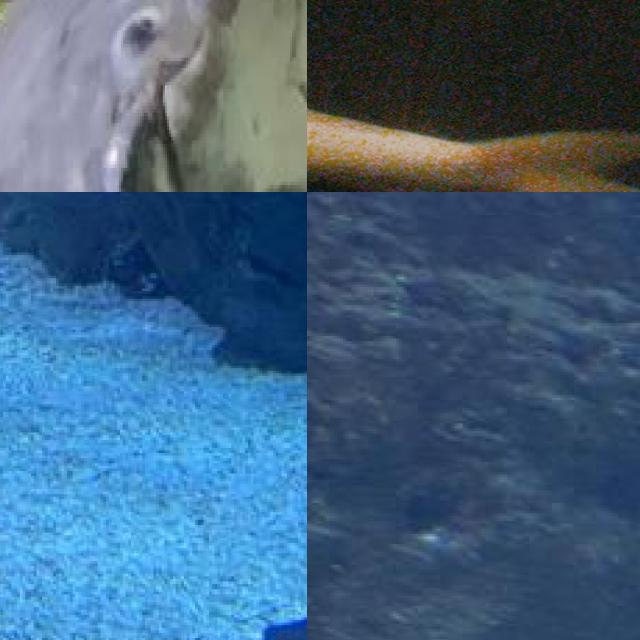fish: (307, 364, 640, 640), (0, 0, 307, 192)
